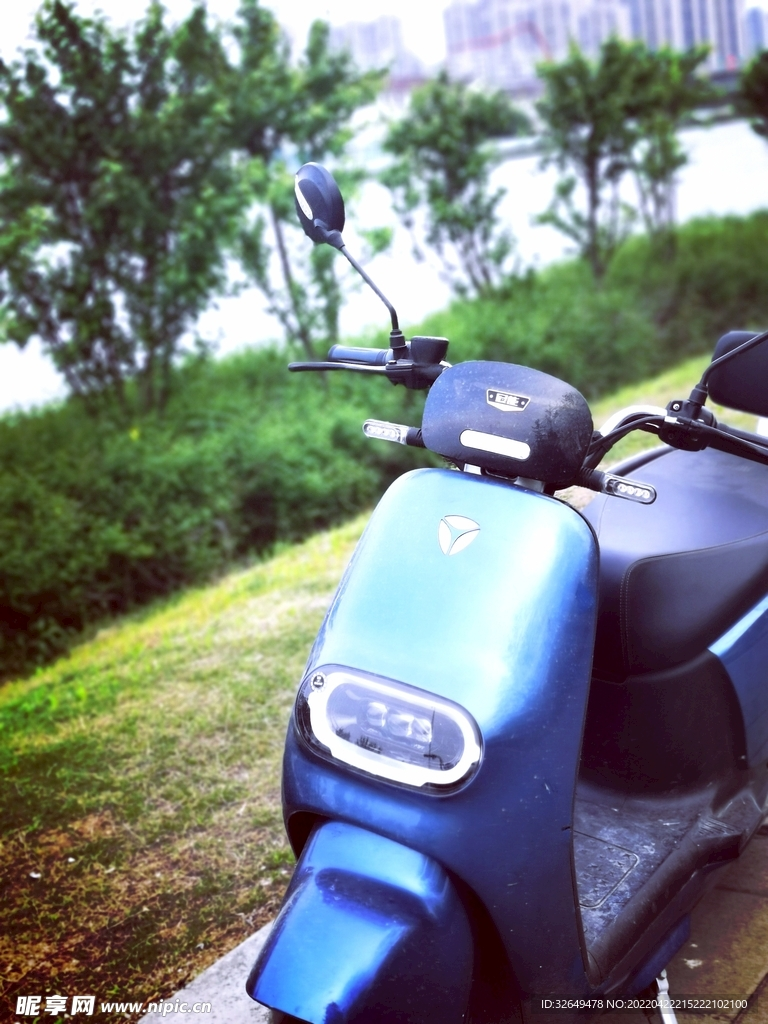MNV: (253, 342, 768, 1004)
